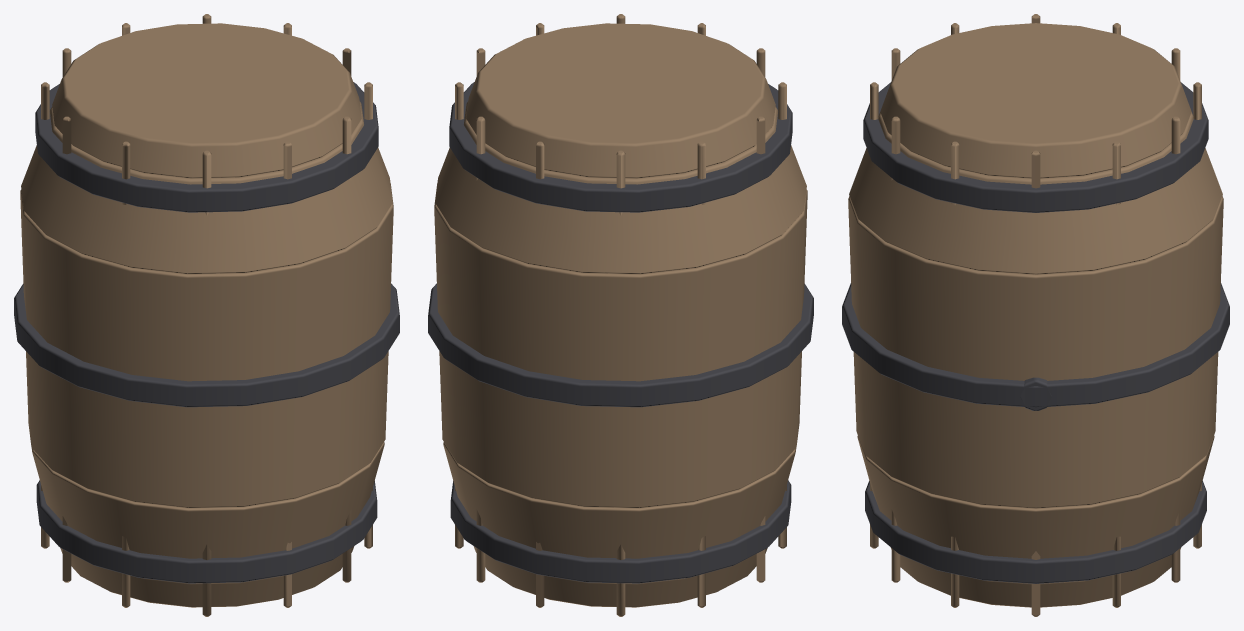
File: barrel.glb
3 views of the same model, side by side, from view 1: azimuth 30°, elevation 25°; view 2: azimuth 150°, elevation 25°; view 3: azimuth 270°, elevation 25° (orthographic).
Parts seen in each view (by area): view 1: barrel; view 2: barrel; view 3: barrel.
Part boxes in pixels (bbox=[...]): barrel: bbox=[14, 14, 399, 616]; barrel: bbox=[428, 14, 813, 616]; barrel: bbox=[842, 14, 1229, 616].
Size of the model in its own units: 0.681 by 0.9 by 0.681.
